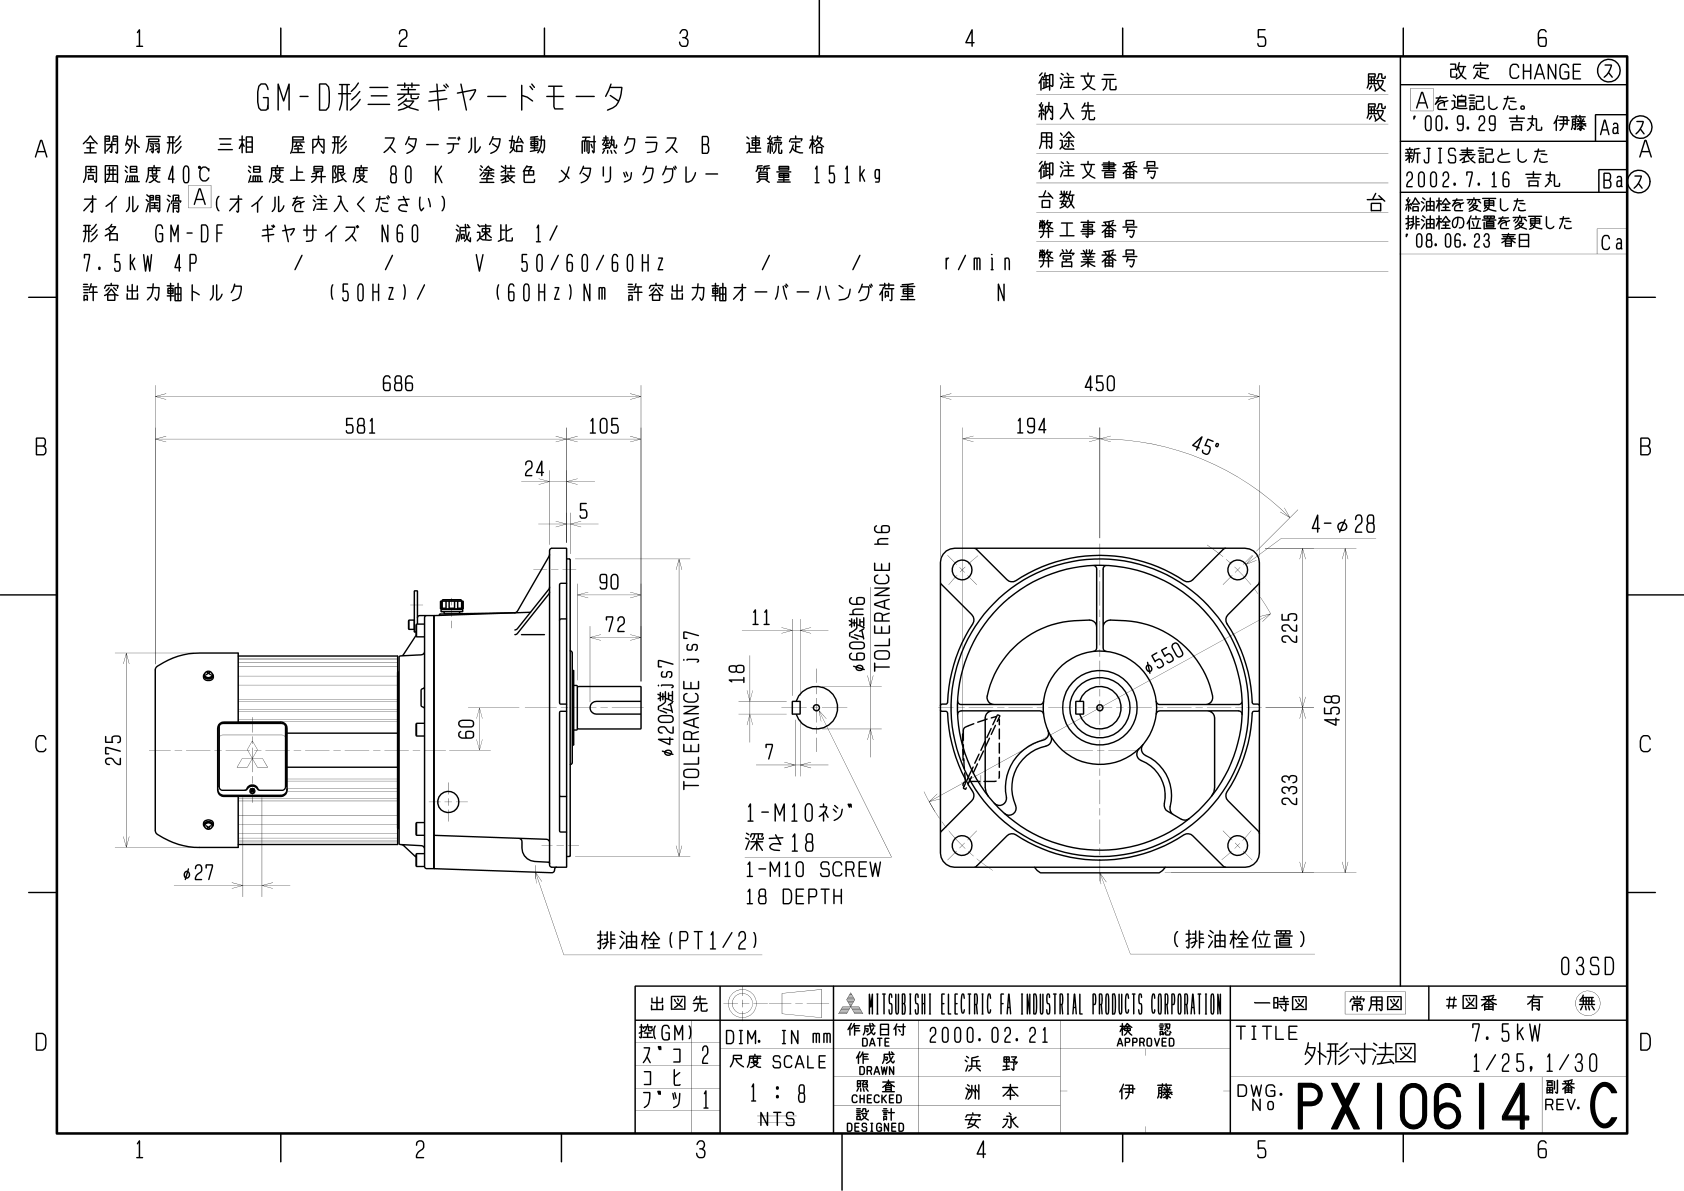GM_D_屋内＿三相_フランジ: (10, 6, 1684, 1191)
